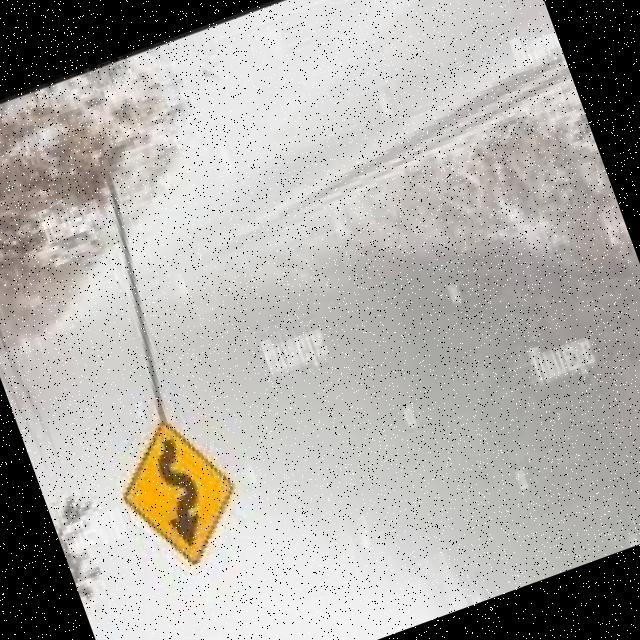left_sharp_curve: (94, 402, 263, 593)
